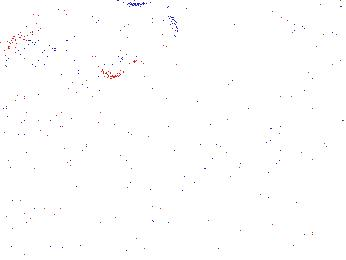moon jellyfish: (94, 4, 177, 80), (4, 35, 68, 106), (258, 24, 341, 69)
